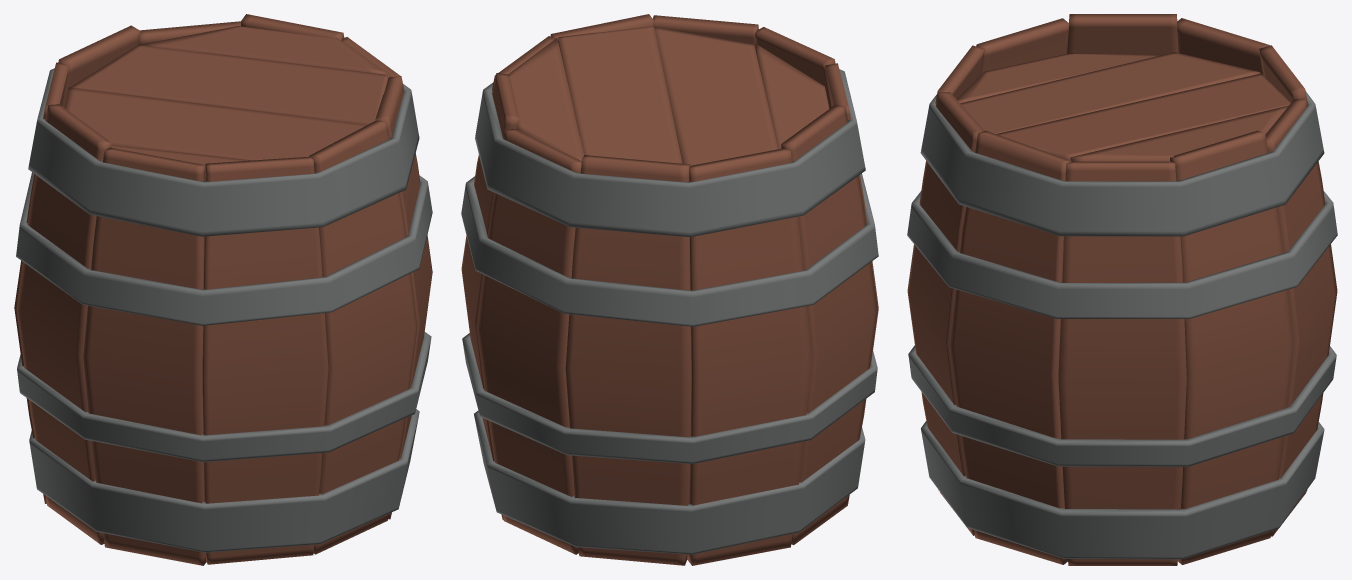
The model's file is Oil Barrel.fbx.
3 views of the same model, side by side, from view 1: azimuth 30°, elevation 25°; view 2: azimuth 150°, elevation 25°; view 3: azimuth 270°, elevation 25° (orthographic).
Parts seen in each view (by area): view 1: Oil Barrel Copy; view 2: Oil Barrel Copy; view 3: Oil Barrel Copy.
Part boxes in pixels (box(x1,y1,x2,y2)): Oil Barrel Copy: box(14, 14, 432, 565); Oil Barrel Copy: box(461, 14, 878, 565); Oil Barrel Copy: box(907, 14, 1337, 565).
Bounding box in the file's own units: 97.65 × 93.21 × 102.
